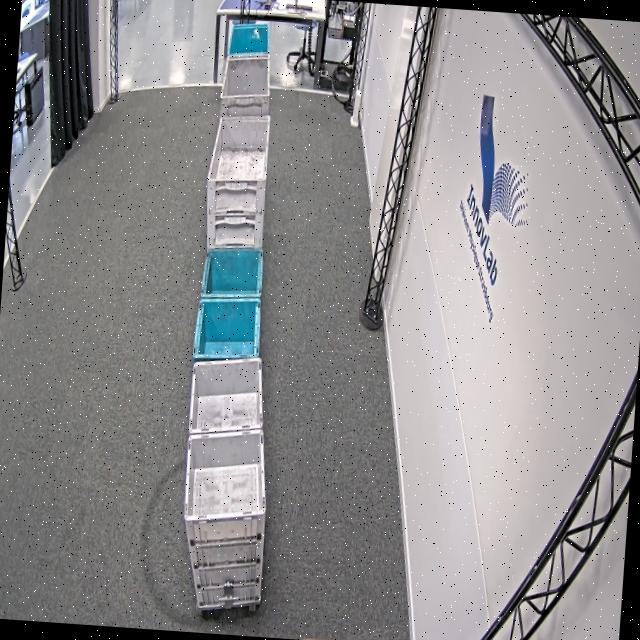Roll3G: (204, 109, 272, 188)
Roll4G: (218, 48, 274, 102)
Roll8G: (181, 352, 277, 528)
RollB4: (226, 20, 272, 59)
RollB8: (192, 242, 266, 362)
